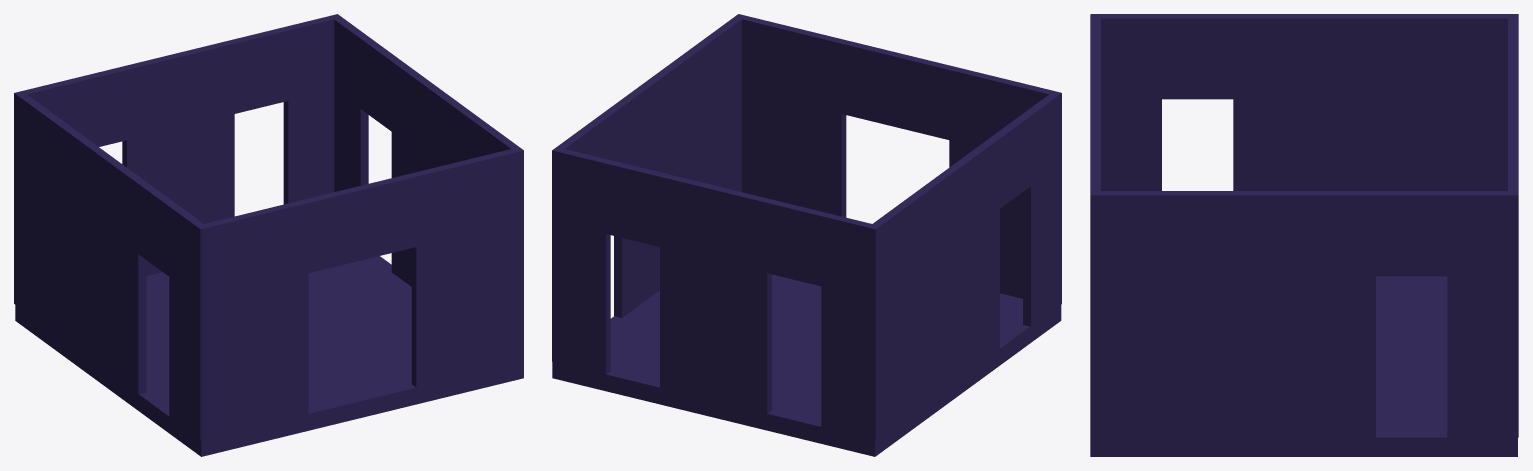
File: entryExport.FBX
The picture shows the model from 3 angles, left to right: view 1: azimuth 30°, elevation 25°; view 2: azimuth 150°, elevation 25°; view 3: azimuth 270°, elevation 25°; orthographic projection. The views are drawn at different scales.
Visible parts, largest first — view 1: WallF, WallL, WallB, Floor, WallR; view 2: WallB, WallL, WallF, WallR, Floor; view 3: WallR, WallL, Floor, WallF, WallB.
Part boxes in pixels (x1,y1,x2,y2): WallF: [197, 147, 523, 439]; WallL: [14, 91, 206, 439]; WallB: [15, 14, 339, 275]; Floor: [15, 256, 523, 456]; WallR: [330, 14, 523, 360]; WallB: [552, 148, 878, 438]; WallL: [867, 91, 1061, 440]; WallF: [735, 14, 1060, 298]; WallR: [552, 14, 745, 363]; Floor: [552, 274, 1061, 456]; WallR: [1091, 191, 1518, 437]; WallL: [1091, 14, 1518, 190]; Floor: [1090, 276, 1517, 456]; WallF: [1090, 14, 1100, 437]; WallB: [1508, 15, 1518, 195].
Bounding box in the file's own units: 158 × 106 × 158.
